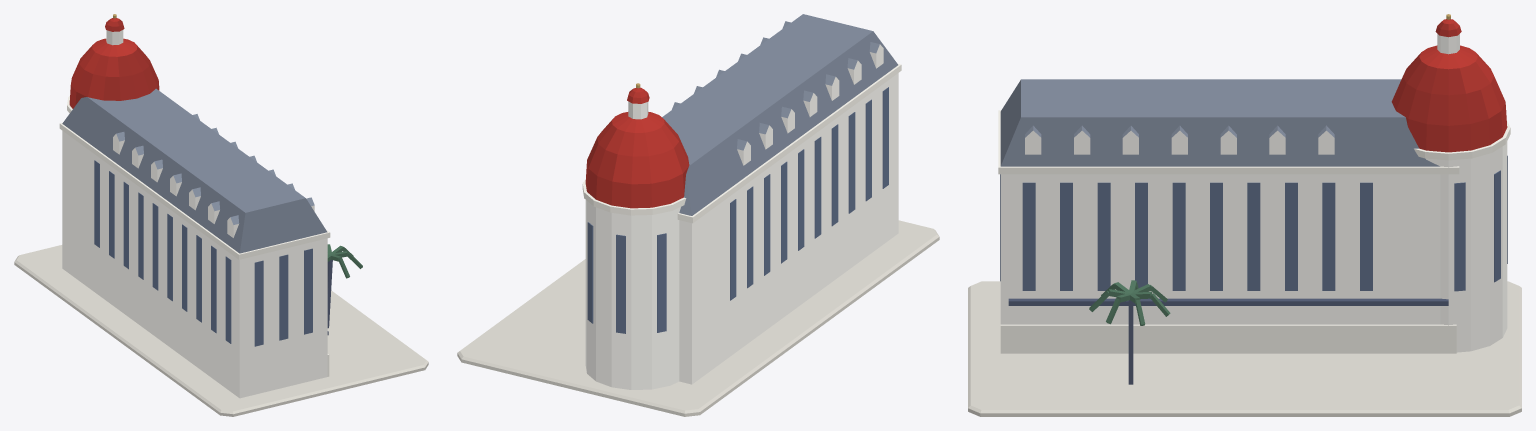
The model's file is nice.glb.
3 views of the same model, side by side, from view 1: azimuth 30°, elevation 25°; view 2: azimuth 150°, elevation 25°; view 3: azimuth 270°, elevation 25° (orthographic). The views are drawn at different scales.
Parts seen in each view (by area): view 1: model; view 2: model; view 3: model.
Boxes of the visible parts, <box> form: model: <box>14,14,428,416</box>; model: <box>457,14,939,416</box>; model: <box>968,14,1521,416</box>.
Size of the model in its own units: 38 by 43.42 by 68.
